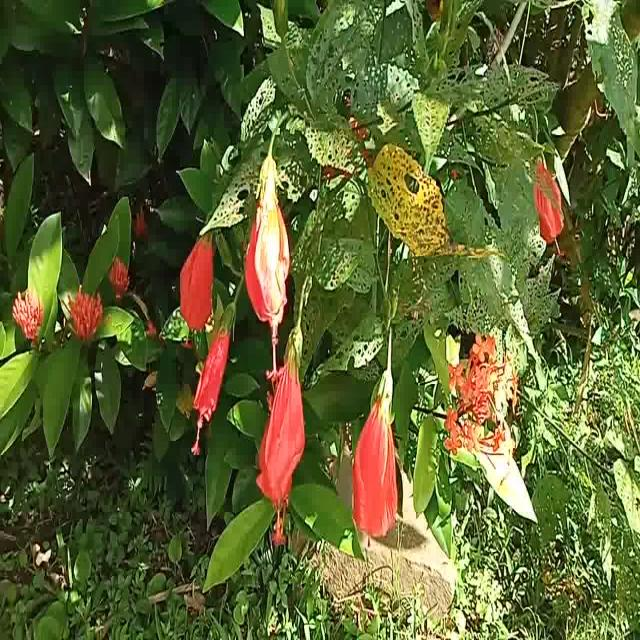Flower: (255, 323, 309, 551), (351, 371, 407, 545), (247, 147, 289, 378), (187, 293, 237, 459), (176, 227, 218, 333), (532, 157, 564, 249)
